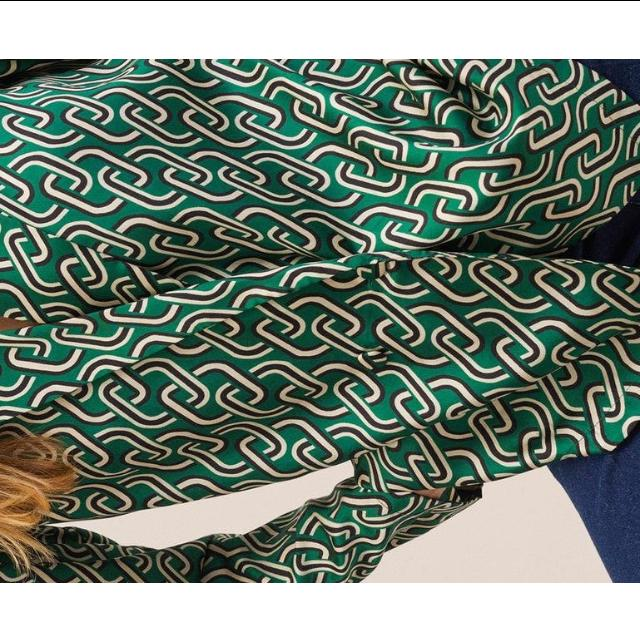polyester: (0, 58, 620, 582)
